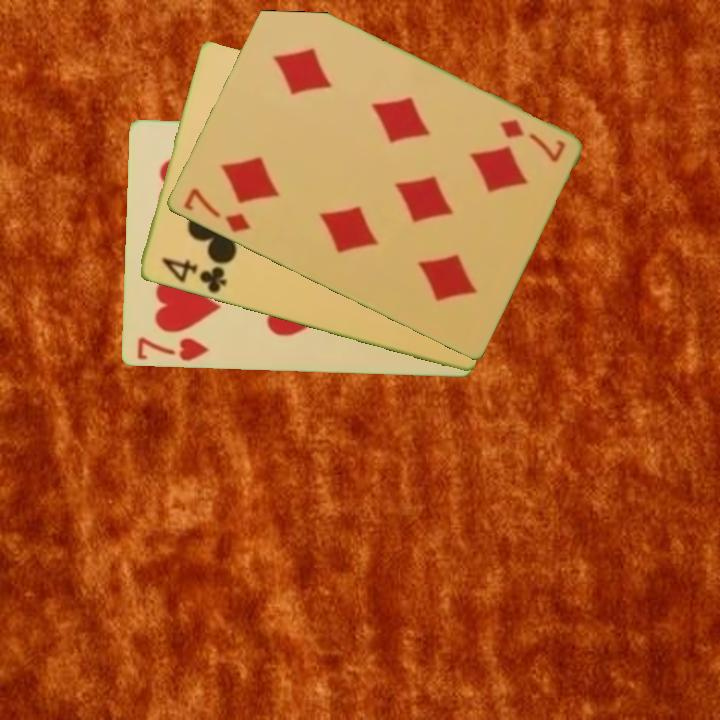4c: (157, 254, 229, 297)
7d: (179, 185, 253, 236), (495, 116, 568, 165)
7h: (133, 334, 210, 365)
